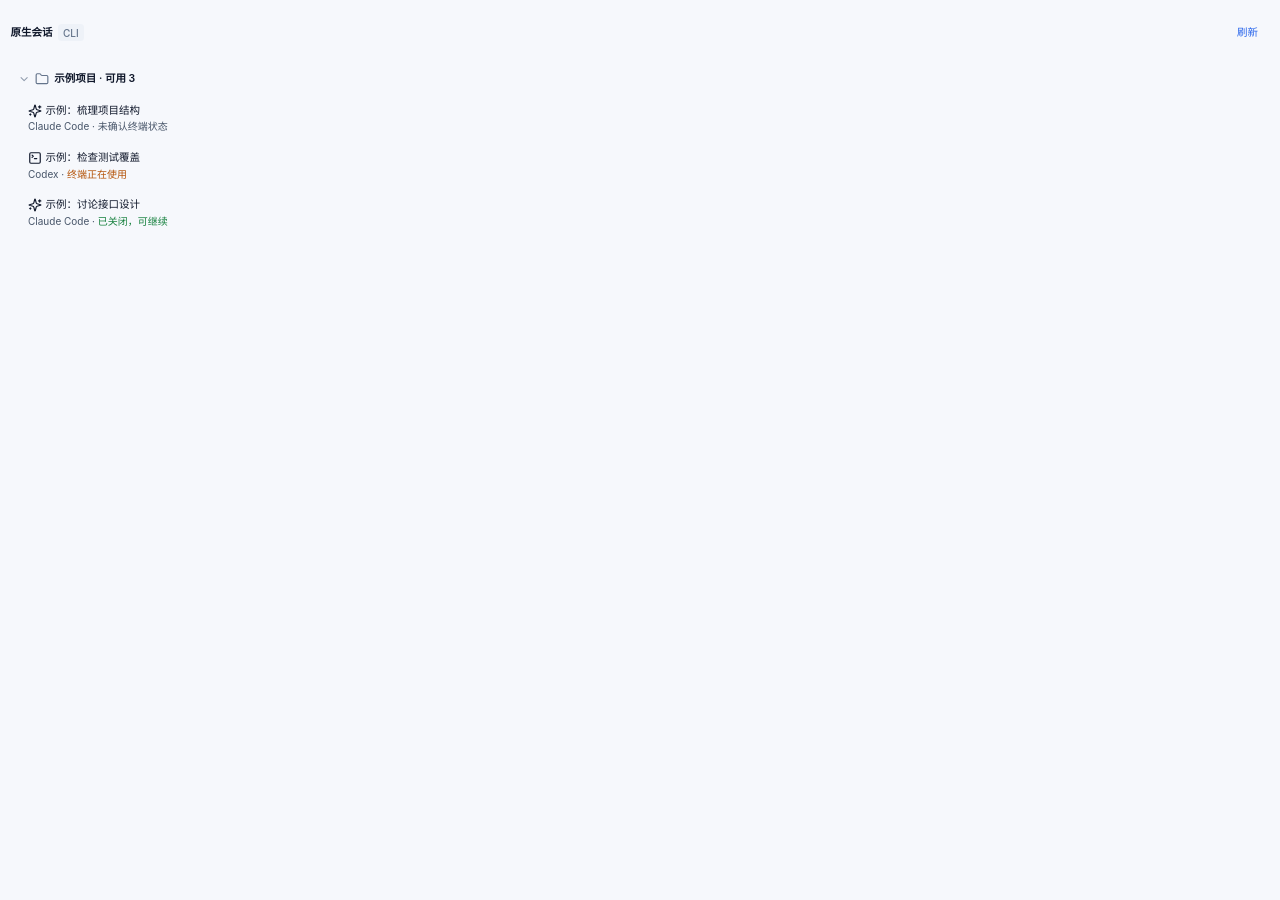
R3 native sessions › groups by workspace with Agent and activity labels; offline history never requests content
The image size is (1280, 900).
What coordinates should you click on to do the following:
click the button "示例：梳理项目结构 Claude Code · 未确认终端状态"
I would click on:
 (93, 110)
Its box is [18,96,1270,140].
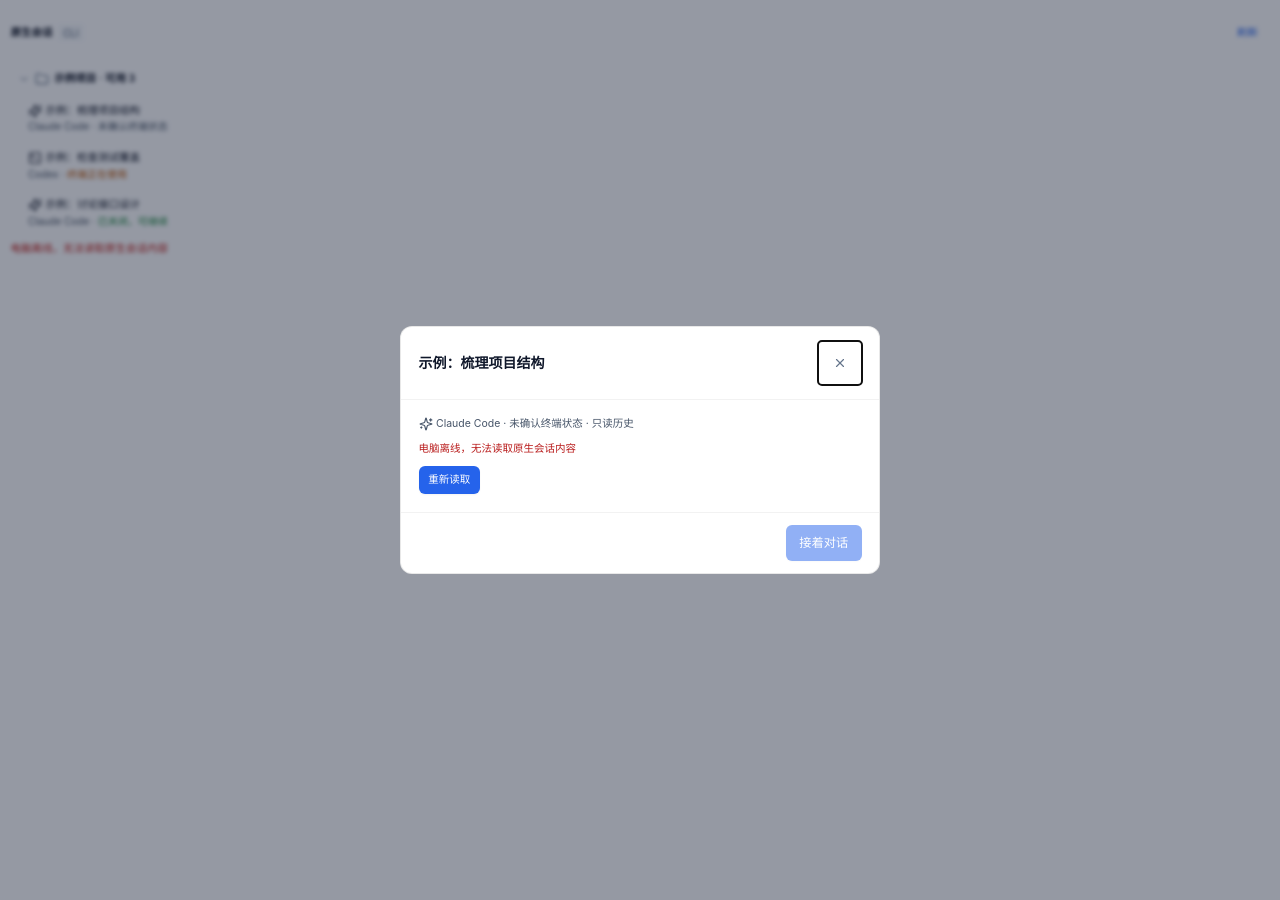
expect the text "电脑离线，无法读取原生会话内容" is shown: met, box [10,242,168,255]
